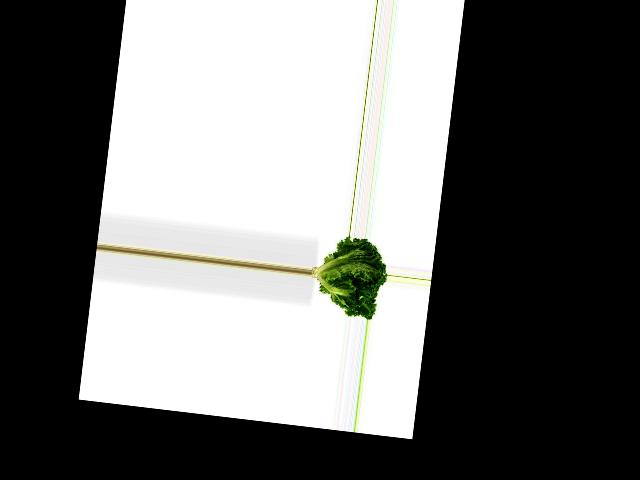lettuce: (306, 232, 390, 320)
